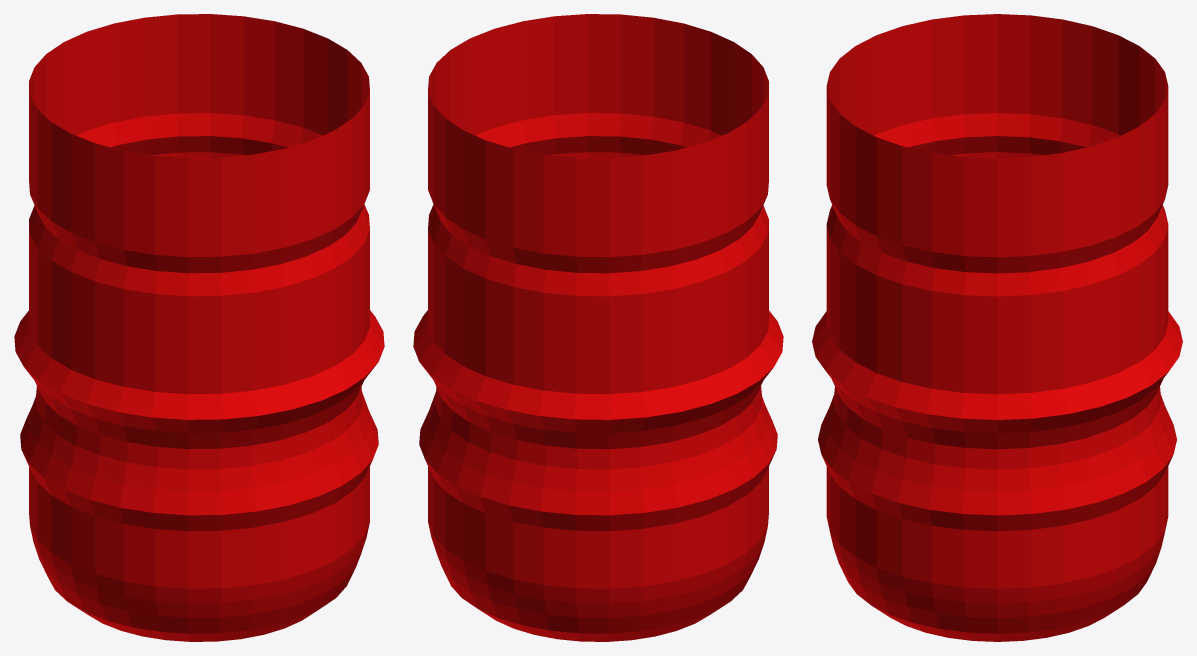
The model's file is cuborojo.glb.
3 renders of one model, left to right at view 1: azimuth 30°, elevation 25°; view 2: azimuth 150°, elevation 25°; view 3: azimuth 270°, elevation 25°, orthographic.
Parts seen in each view (by area): view 1: Cylinder.002; view 2: Cylinder.002; view 3: Cylinder.002.
Boxes of the visible parts, bbox=[...] form: Cylinder.002: bbox=[14, 14, 384, 641]; Cylinder.002: bbox=[413, 14, 783, 641]; Cylinder.002: bbox=[812, 14, 1182, 641].
Bounding box in the file's own units: 2.17 × 3.24 × 2.17.
